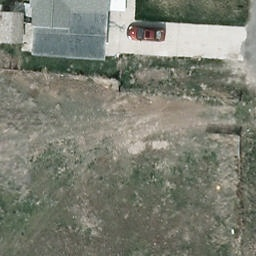car: (126, 24, 166, 44)
